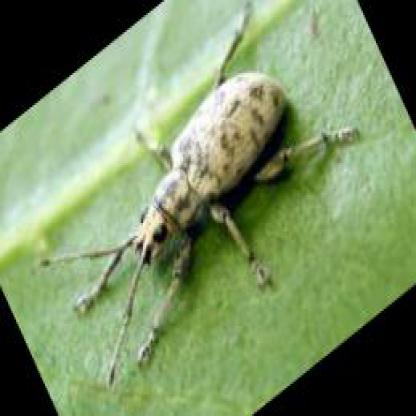ash weevil: (39, 1, 360, 382)
